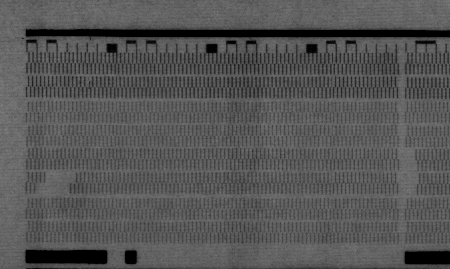Broken hole: (34, 173, 79, 196), (402, 145, 420, 197)
Oblique printing: (83, 76, 96, 91)
